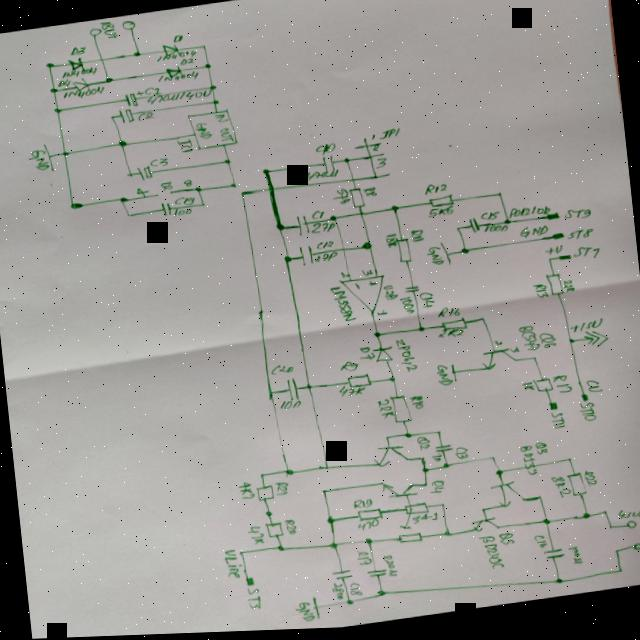capacitor: (284, 376, 302, 402), (298, 244, 316, 268), (124, 89, 146, 107), (295, 214, 311, 237), (542, 549, 567, 563), (136, 163, 154, 182), (118, 106, 135, 124), (330, 570, 355, 582), (364, 569, 390, 580), (322, 156, 337, 173), (433, 444, 452, 457), (468, 218, 482, 235), (402, 285, 422, 296), (160, 200, 172, 217)
crossover: (266, 185, 276, 194), (357, 211, 368, 218), (306, 383, 314, 391), (340, 247, 348, 254), (99, 55, 106, 63), (349, 177, 356, 184)
diode: (372, 346, 396, 365), (66, 55, 85, 72), (71, 75, 90, 91), (162, 42, 180, 56), (165, 64, 182, 78), (143, 85, 162, 96)
ground: (42, 140, 55, 172), (438, 241, 453, 268), (310, 595, 322, 620), (450, 364, 460, 385)
junction: (360, 241, 374, 253), (282, 253, 296, 264), (274, 222, 288, 233), (375, 589, 388, 599), (117, 137, 128, 147), (390, 204, 401, 214), (372, 330, 383, 340), (442, 530, 453, 540), (284, 467, 296, 476), (132, 48, 144, 57), (118, 195, 130, 204), (70, 199, 82, 208), (326, 516, 336, 526), (581, 514, 592, 523), (459, 248, 470, 257), (328, 542, 339, 551), (363, 537, 374, 546), (494, 470, 506, 478), (328, 214, 338, 223), (403, 432, 414, 440), (388, 376, 399, 384), (45, 60, 56, 68), (104, 75, 115, 83), (345, 599, 356, 607), (49, 85, 60, 93), (202, 62, 214, 69), (502, 220, 514, 227), (554, 579, 564, 587), (542, 520, 553, 527), (193, 186, 204, 193), (418, 326, 427, 334), (613, 550, 622, 558), (342, 157, 352, 164), (616, 570, 626, 577), (434, 430, 444, 437), (418, 456, 428, 463), (546, 258, 556, 265), (266, 390, 276, 397), (322, 464, 332, 471), (442, 463, 452, 470), (277, 545, 286, 552), (421, 468, 430, 475), (61, 148, 70, 155), (320, 488, 329, 495), (262, 168, 271, 175), (383, 435, 392, 442), (567, 340, 576, 347), (212, 98, 221, 105), (239, 190, 248, 197), (489, 456, 498, 463), (229, 182, 238, 189), (209, 84, 218, 91), (126, 170, 134, 177), (602, 511, 610, 518), (126, 211, 134, 218), (258, 472, 266, 479), (224, 158, 232, 165), (480, 508, 488, 515), (238, 549, 246, 556), (536, 497, 544, 504), (54, 106, 62, 113), (480, 317, 486, 324), (202, 42, 208, 49), (497, 193, 503, 199), (568, 458, 574, 464), (608, 527, 614, 533), (532, 357, 538, 363), (200, 202, 207, 207), (441, 503, 446, 509), (456, 227, 462, 232), (423, 484, 429, 489), (110, 114, 116, 119)
resistor: (396, 502, 432, 532), (388, 394, 414, 425), (566, 473, 590, 502), (544, 273, 566, 300), (346, 186, 368, 211), (396, 238, 414, 266), (346, 373, 373, 391), (440, 317, 468, 334), (428, 195, 456, 211), (357, 507, 384, 523), (255, 483, 275, 504), (532, 378, 554, 396), (396, 532, 424, 546), (265, 520, 285, 539)
source: (581, 330, 611, 352)
switch: (354, 135, 390, 183)
terminal: (122, 18, 138, 31), (88, 25, 104, 37), (544, 213, 562, 223), (546, 402, 560, 414), (551, 234, 566, 243), (626, 522, 639, 532), (244, 576, 255, 587), (578, 395, 590, 405), (558, 256, 573, 263), (631, 544, 640, 555), (167, 188, 178, 196), (152, 192, 162, 200)
text: (146, 87, 214, 105), (474, 534, 504, 574), (329, 285, 357, 324), (508, 203, 554, 223), (396, 338, 418, 374), (222, 547, 244, 580), (62, 84, 106, 100), (518, 444, 538, 479), (301, 166, 340, 183), (157, 70, 200, 85), (518, 327, 541, 355), (572, 245, 604, 264), (243, 522, 267, 547), (27, 146, 51, 171), (517, 225, 550, 243), (550, 476, 572, 502), (155, 49, 198, 62), (569, 320, 606, 335), (294, 600, 316, 624), (551, 375, 573, 398), (564, 209, 594, 225), (578, 402, 598, 426), (245, 585, 263, 611), (311, 250, 340, 266), (338, 383, 367, 399), (65, 63, 98, 77), (236, 479, 256, 502), (615, 507, 640, 525), (378, 398, 396, 423), (566, 229, 596, 244), (310, 220, 338, 236), (426, 246, 446, 268), (409, 513, 440, 527), (566, 546, 584, 570), (100, 19, 120, 40), (426, 206, 456, 220), (128, 107, 156, 122), (436, 327, 465, 341), (383, 554, 399, 579), (538, 333, 558, 352), (278, 397, 304, 411), (438, 365, 453, 389), (332, 188, 352, 206), (352, 497, 374, 513), (424, 183, 449, 197), (430, 478, 448, 497), (358, 346, 377, 364), (355, 550, 373, 569), (584, 380, 604, 397), (272, 362, 296, 376), (480, 210, 502, 225), (438, 307, 463, 320), (378, 128, 403, 141), (418, 292, 436, 310), (382, 284, 400, 302), (356, 520, 380, 533), (532, 285, 550, 302), (402, 297, 418, 316), (550, 412, 566, 431), (484, 224, 511, 235), (339, 360, 360, 374), (532, 535, 549, 552), (582, 472, 598, 490), (174, 194, 198, 206), (498, 533, 516, 549), (534, 440, 550, 458), (176, 137, 194, 153), (314, 239, 336, 252), (148, 156, 170, 169), (331, 582, 346, 601), (316, 142, 336, 156), (196, 122, 213, 138), (409, 229, 426, 245), (408, 396, 424, 413), (68, 43, 88, 56), (348, 582, 364, 598), (274, 481, 290, 497), (172, 206, 194, 217), (455, 446, 470, 462), (284, 519, 298, 536), (385, 234, 400, 249), (545, 247, 566, 257), (562, 281, 576, 296), (362, 187, 379, 199), (520, 382, 537, 394), (418, 436, 431, 451), (220, 126, 233, 141), (310, 209, 326, 221), (56, 77, 73, 87), (136, 186, 150, 198), (375, 158, 388, 170), (160, 180, 174, 190), (179, 57, 196, 65), (339, 271, 352, 281), (182, 177, 193, 188), (432, 454, 444, 464), (362, 269, 374, 278), (172, 34, 184, 43), (376, 311, 389, 318), (372, 144, 381, 154), (509, 348, 520, 356), (493, 341, 504, 349), (352, 284, 363, 292), (368, 281, 378, 288), (370, 134, 378, 141)
transistor: (490, 480, 532, 514), (372, 444, 412, 470), (381, 478, 421, 504), (481, 348, 518, 374), (469, 516, 501, 537)
